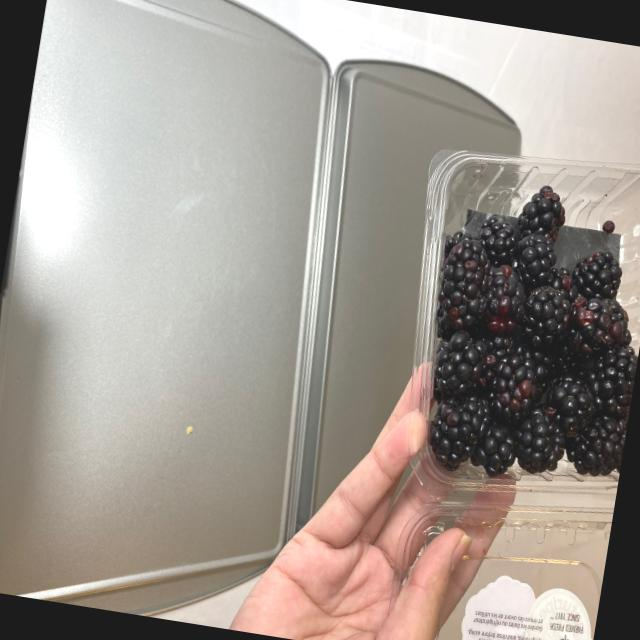blackberries: (410, 139, 640, 507)
